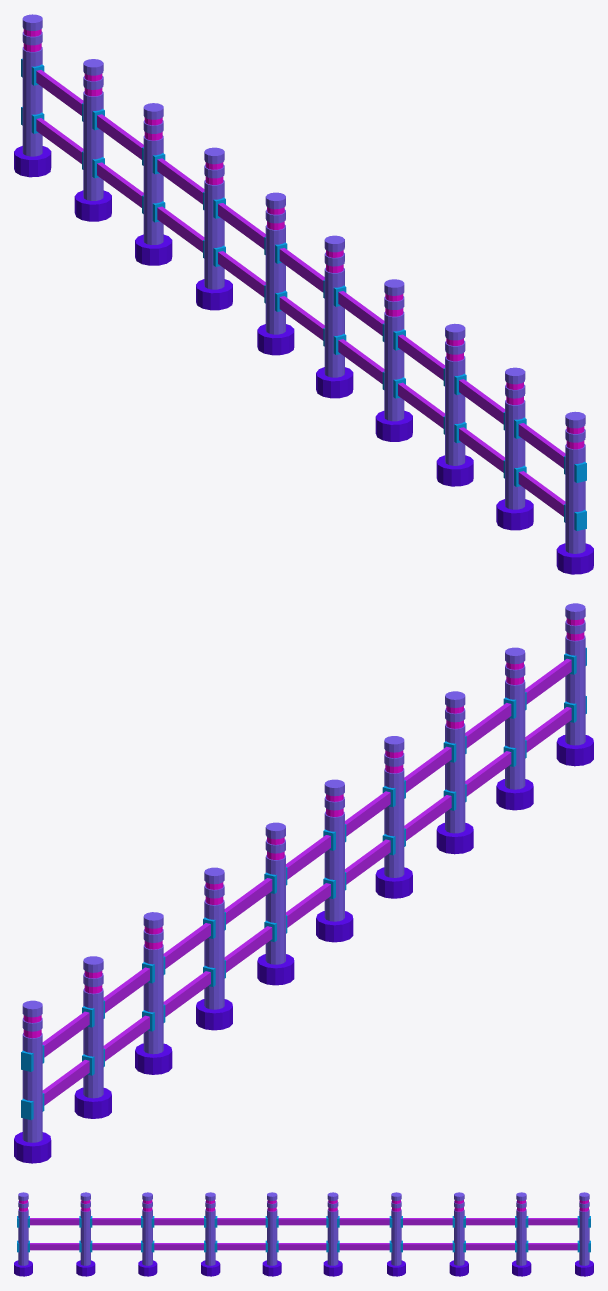
File: futuristic_road_barier_colored1.fbx
3 views of the same model, one above another, from view 1: azimuth 30°, elevation 25°; view 2: azimuth 150°, elevation 25°; view 3: azimuth 270°, elevation 25° (orthographic). The views are drawn at different scales.
Parts seen in each view (by area): view 1: Cylinder.004; view 2: Cylinder.004; view 3: Cylinder.004.
Boxes of the visible parts, box(x1,y1,x2,y2) form: Cylinder.004: box(14, 14, 593, 574); Cylinder.004: box(14, 603, 593, 1163); Cylinder.004: box(14, 1192, 593, 1276).
Size of the model in its own units: 62.27 by 278 by 1877.
